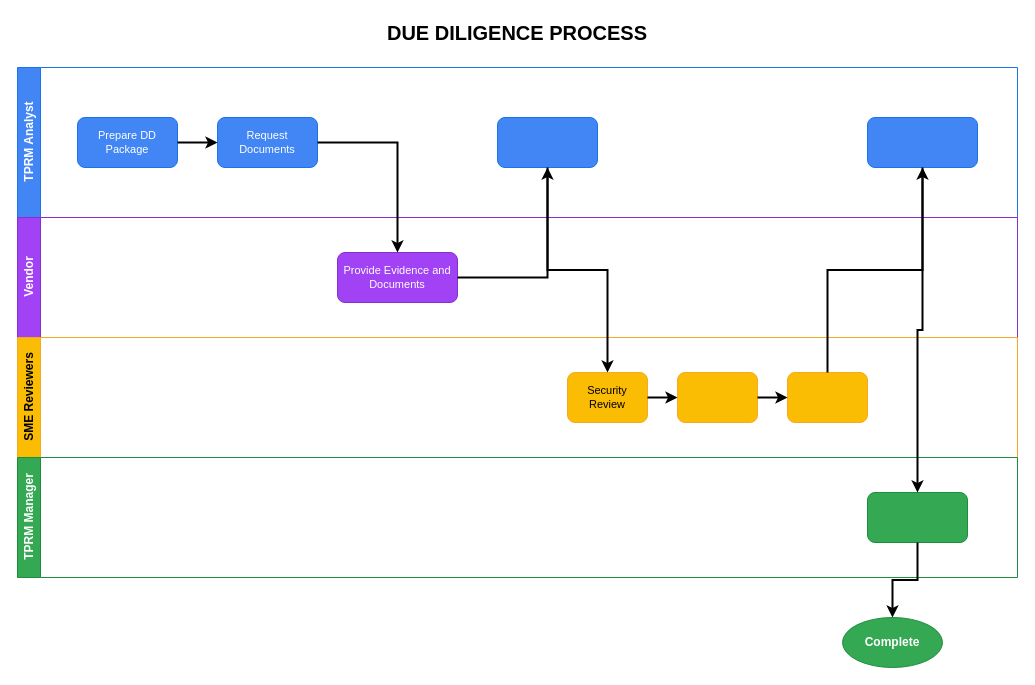
This 1035x685 diagram has some shape labels left out. The shapes that lost their labels are listed below. From the top down, each one's centre as x and y in pixels, then its label:
At point 547,142: "Review SOC Reports".
At point 922,142: "Compile Findings and Rating".
At point 717,397: "Legal Review".
At point 827,397: "Privacy Review".
At point 917,517: "Review and Approve".
